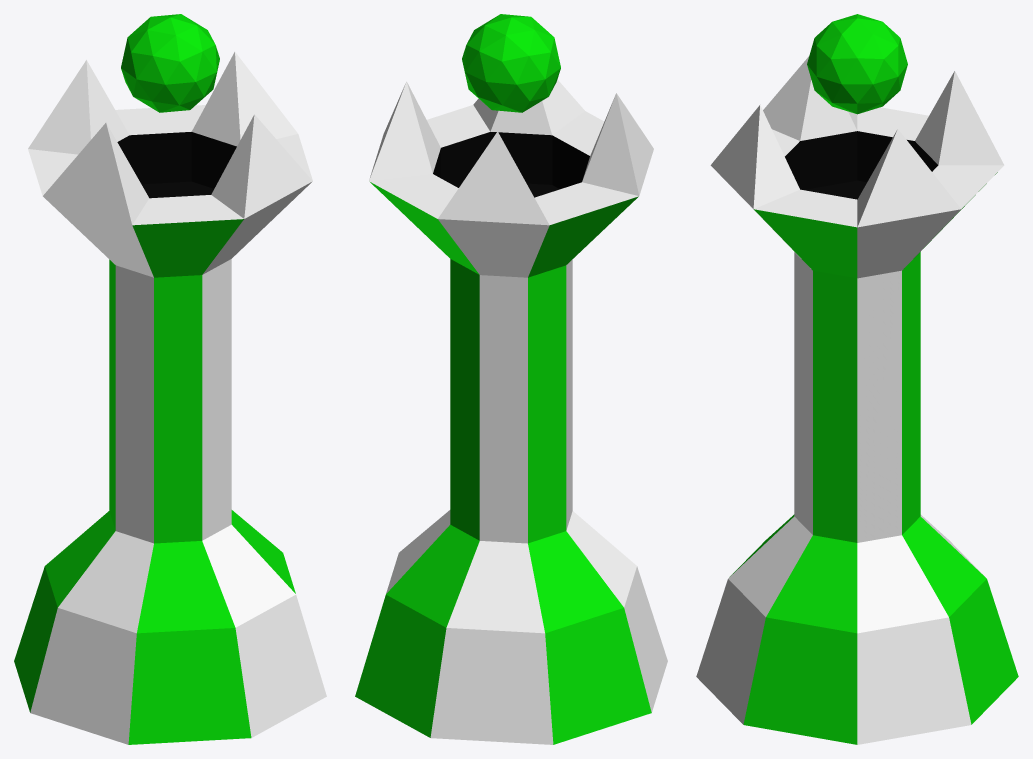
The model's file is tower3.fbx.
3 views of the same model, side by side, from view 1: azimuth 30°, elevation 25°; view 2: azimuth 150°, elevation 25°; view 3: azimuth 270°, elevation 25° (orthographic).
Visible parts, largest first — view 1: Icosphere.004, Icosphere.005; view 2: Icosphere.004, Icosphere.005; view 3: Icosphere.004, Icosphere.005.
Boxes of the visible parts, bbox=[...] form: Icosphere.004: bbox=[14, 52, 326, 744]; Icosphere.005: bbox=[121, 14, 219, 112]; Icosphere.004: bbox=[355, 79, 667, 744]; Icosphere.005: bbox=[462, 14, 560, 112]; Icosphere.004: bbox=[696, 56, 1018, 744]; Icosphere.005: bbox=[807, 14, 907, 114].
Size of the model in its own units: 1 by 2.25 by 1.
